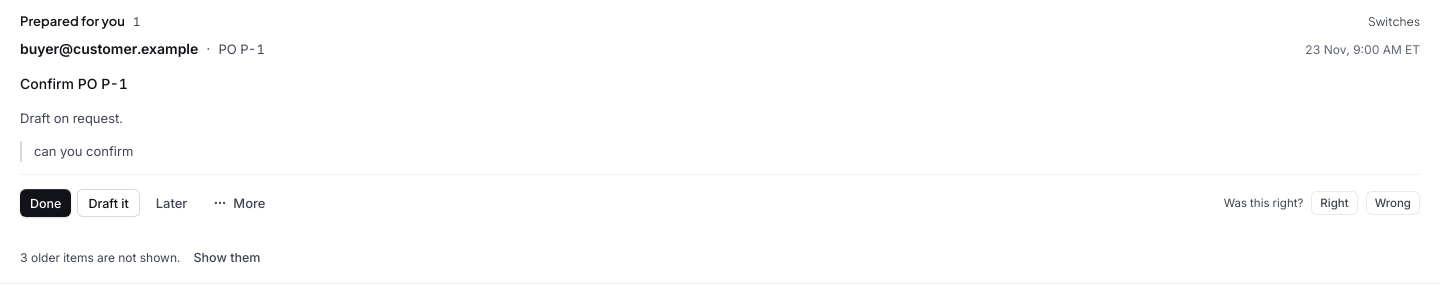
Test: The list's older items › says how many are older than the 14 days and lists them all on a click
Expected: the element with test id "older-items" shows "3 older items are not shown", [20,243,270,271]
What coordinates should you click on to do the following:
click the button "Show them"
I would click on:
 (227, 257)
Its box is [184,243,270,271].
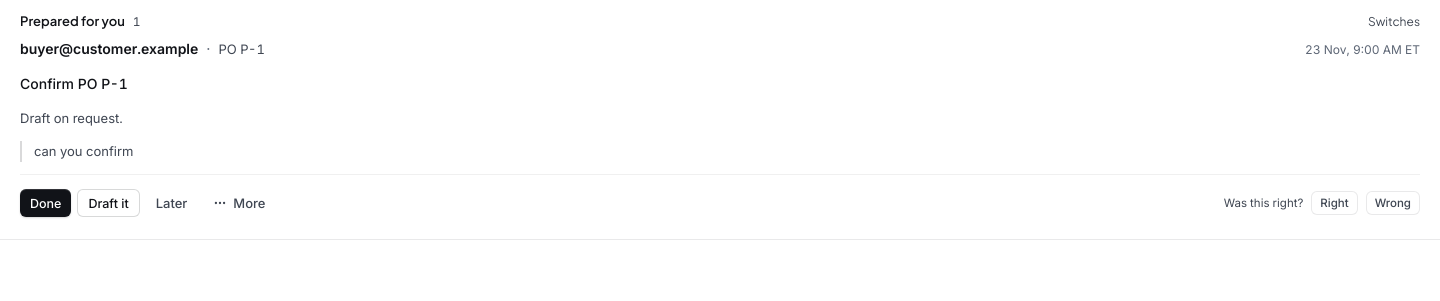
Expected: the element with test id "older-items" is gone
